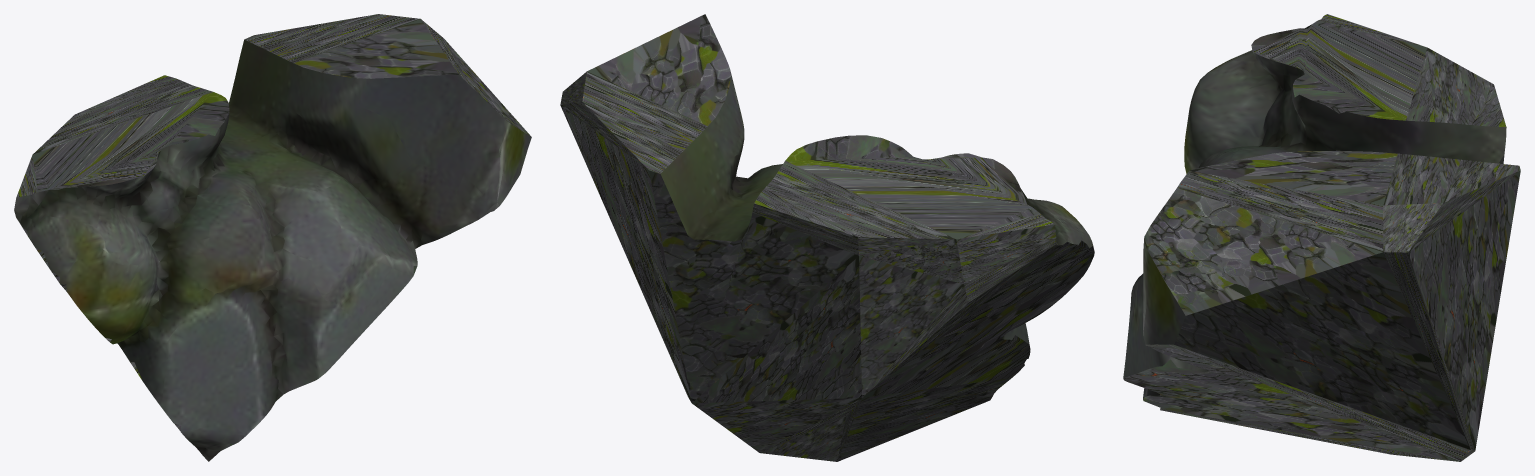
Rendered from Frag_24.gltf.
3 views of the same model, side by side, from view 1: azimuth 30°, elevation 25°; view 2: azimuth 150°, elevation 25°; view 3: azimuth 270°, elevation 25° (orthographic). The views are drawn at different scales.
Visible parts, largest first — view 1: Frag_24; view 2: Frag_24; view 3: Frag_24.
Boxes of the visible parts, x1,y1,x2,y2 form: Frag_24: (14, 14, 531, 461); Frag_24: (560, 14, 1094, 461); Frag_24: (1123, 14, 1520, 461).
Size of the model in its own units: 0.4143 by 0.2754 by 0.241.
Materials: 1 (1 with a texture image).
